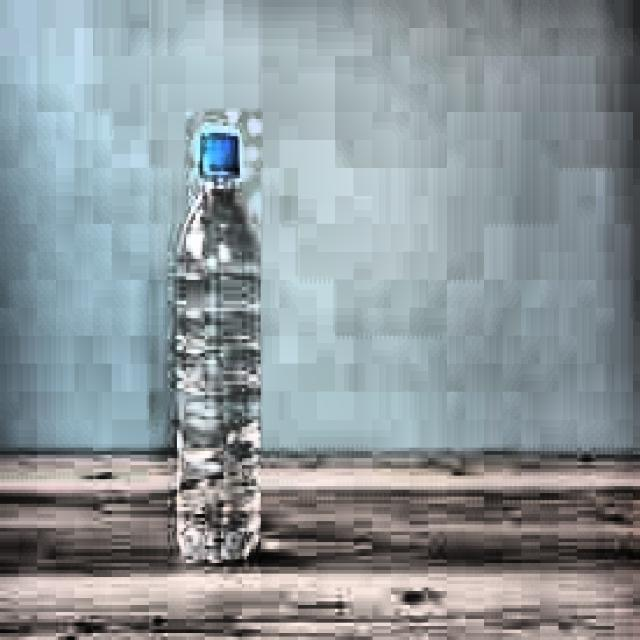plastic bottle: (176, 131, 260, 561)
